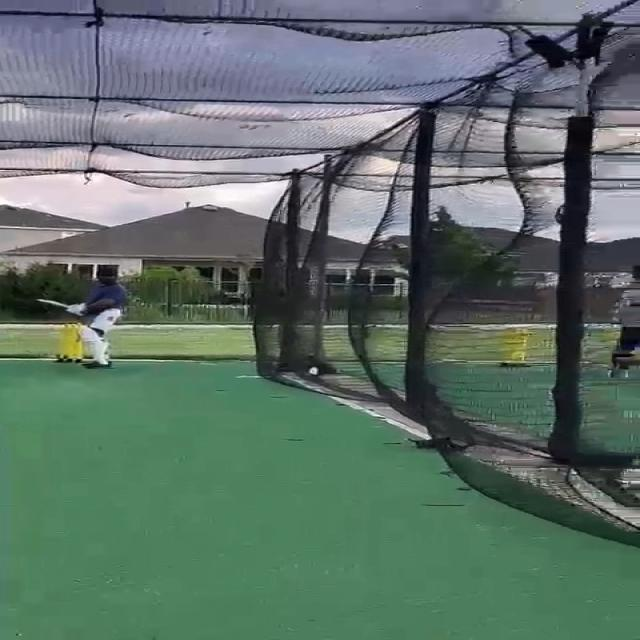batsman: (35, 266, 131, 370)
